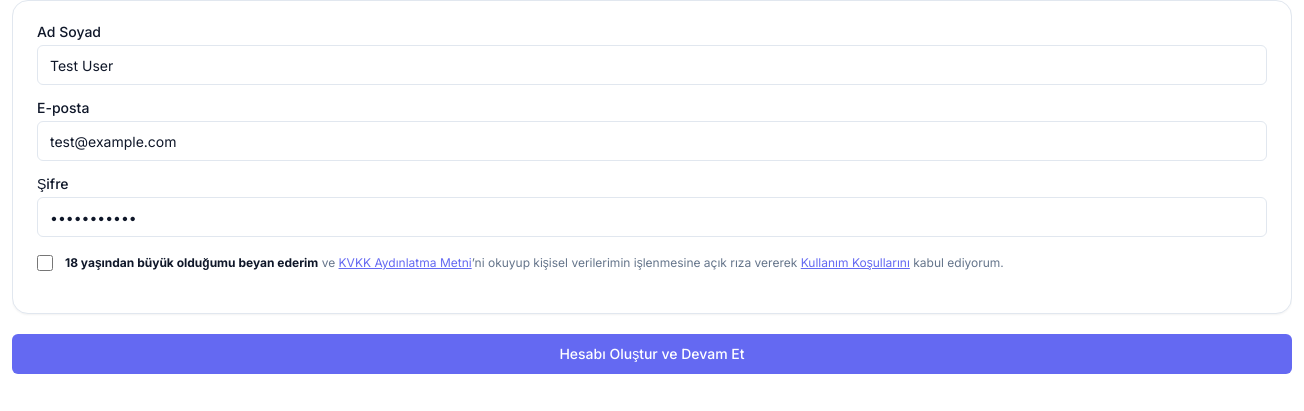
Test: KVKK Onay Zorunluluğu — STK Onboarding (Step4Account) › KVKK onaylanmadan submit → hata mesajı gösterir, backend çağrılmaz
The width and height of the screenshot is (1304, 411).
Click the button "Hesabı Oluştur ve Devam Et" at (652, 354), box [12, 334, 1292, 374]
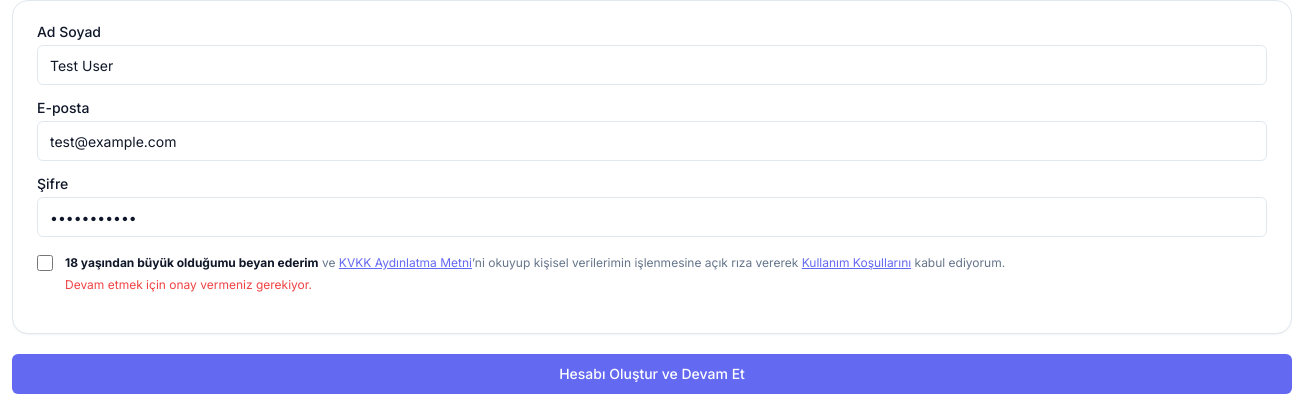
Expected: the text "Devam etmek için onay vermeniz gerekiyor." is shown, [65, 276, 312, 292]
